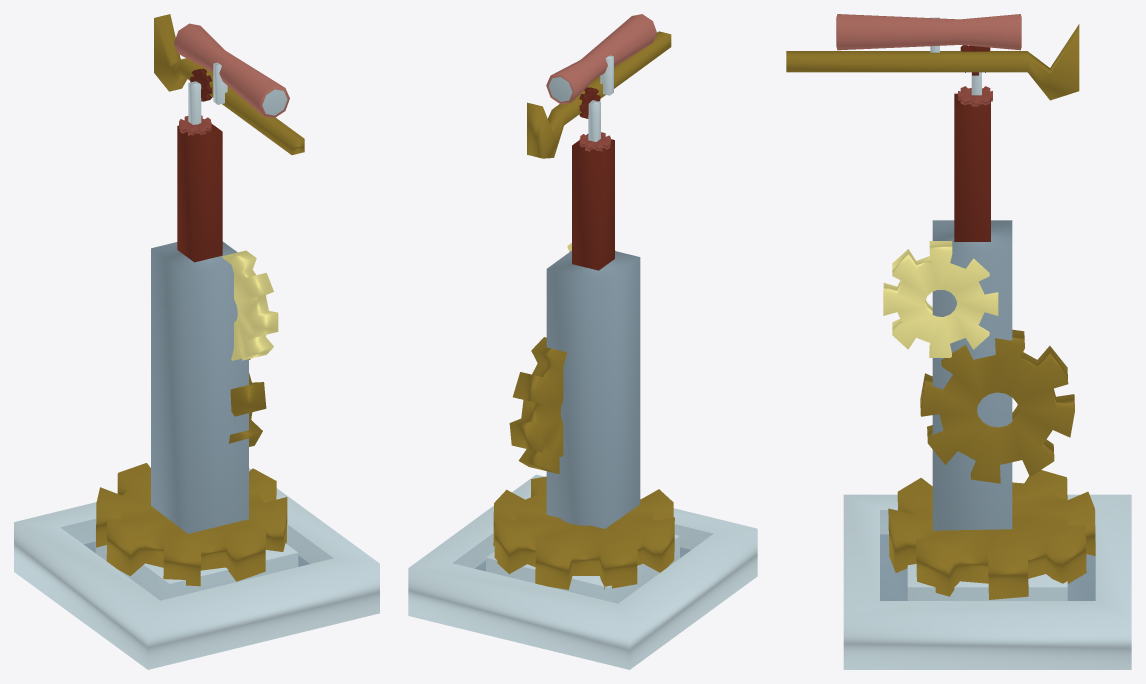
The model's file is sniper.glb.
3 renders of one model, left to right at view 1: azimuth 30°, elevation 25°; view 2: azimuth 150°, elevation 25°; view 3: azimuth 270°, elevation 25°, orthographic. The views are drawn at different scales.
Visible parts, largest first — view 1: base, pillarBottom, bigGear2, PillarTop, scope, gunBase, mediumGear, bigGear, pillarSmall; view 2: base, pillarBottom, bigGear2, bigGear, PillarTop, scope, gunBase, pillarSmall; view 3: base, bigGear2, bigGear, pillarBottom, mediumGear, gunBase, scope, PillarTop, smallGear1.
Part boxes in pixels (x1,y1,x2,y2): base: (14, 468, 379, 669); pillarBottom: (151, 241, 248, 533); bigGear2: (96, 463, 287, 586); PillarTop: (177, 124, 222, 262); scope: (174, 23, 289, 118); gunBase: (154, 14, 304, 154); mediumGear: (222, 250, 278, 360); bigGear: (229, 358, 266, 446); pillarSmall: (188, 81, 201, 124); base: (408, 474, 757, 669); pillarBottom: (546, 250, 640, 528); bigGear2: (493, 476, 674, 589); bigGear: (509, 337, 566, 473); PillarTop: (572, 134, 614, 270); scope: (546, 14, 656, 104); gunBase: (527, 31, 671, 158); pillarSmall: (588, 100, 600, 141); base: (843, 494, 1131, 669); bigGear2: (888, 470, 1095, 599); bigGear: (920, 329, 1074, 483); pillarBottom: (932, 220, 1012, 530); mediumGear: (883, 241, 998, 357); gunBase: (786, 24, 1079, 100); scope: (836, 14, 1021, 50); PillarTop: (954, 93, 990, 241); smallGear1: (958, 86, 992, 106).
Bounding box in the file's own units: 1.34 × 3.07 × 1.61.
1 material, 1 textured.
